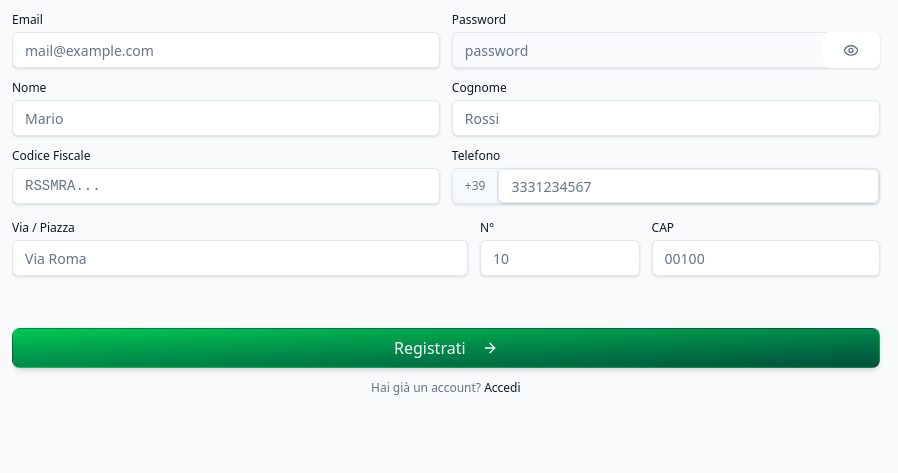
Scenario: RegistrationForm › shows validation errors when submitting empty form
Click the button "Registrati".
click(446, 348)  # box [12, 328, 880, 368]
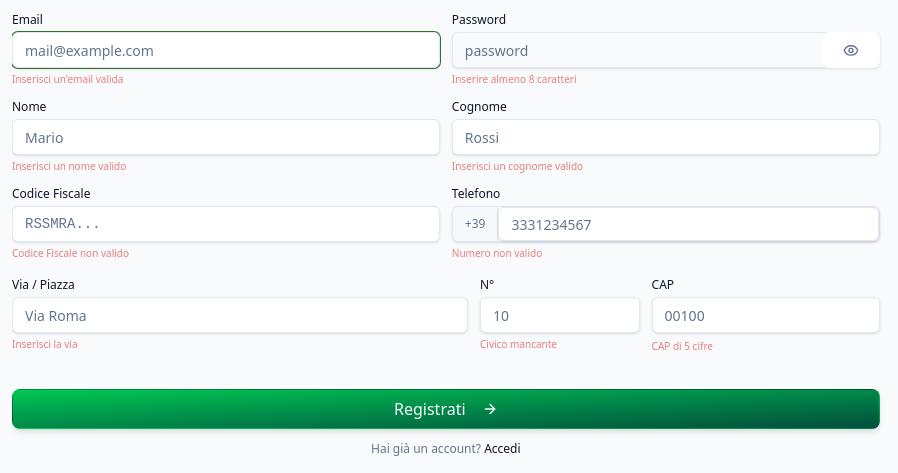
Check: the text "Inserisci un'email valida" is shown, box [12, 72, 123, 86]
Check: the text "Inserisci un nome valido" is shown, box [12, 159, 126, 173]
